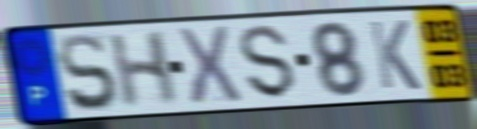8: (310, 19, 371, 99)
H: (106, 28, 180, 111)
K: (366, 18, 424, 93)
S: (56, 31, 121, 115), (237, 23, 299, 102)
X: (173, 24, 245, 109)
